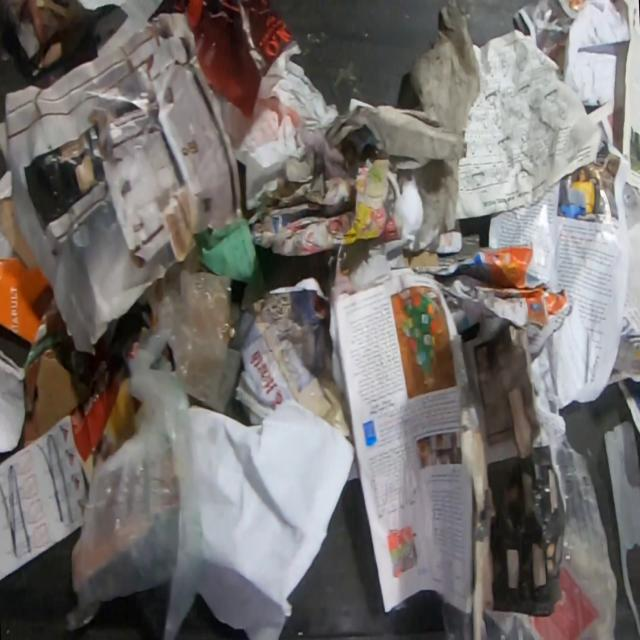cardboard: (34, 355, 91, 436), (0, 197, 37, 270)
soft_plastic: (62, 269, 241, 639), (480, 435, 617, 640)
